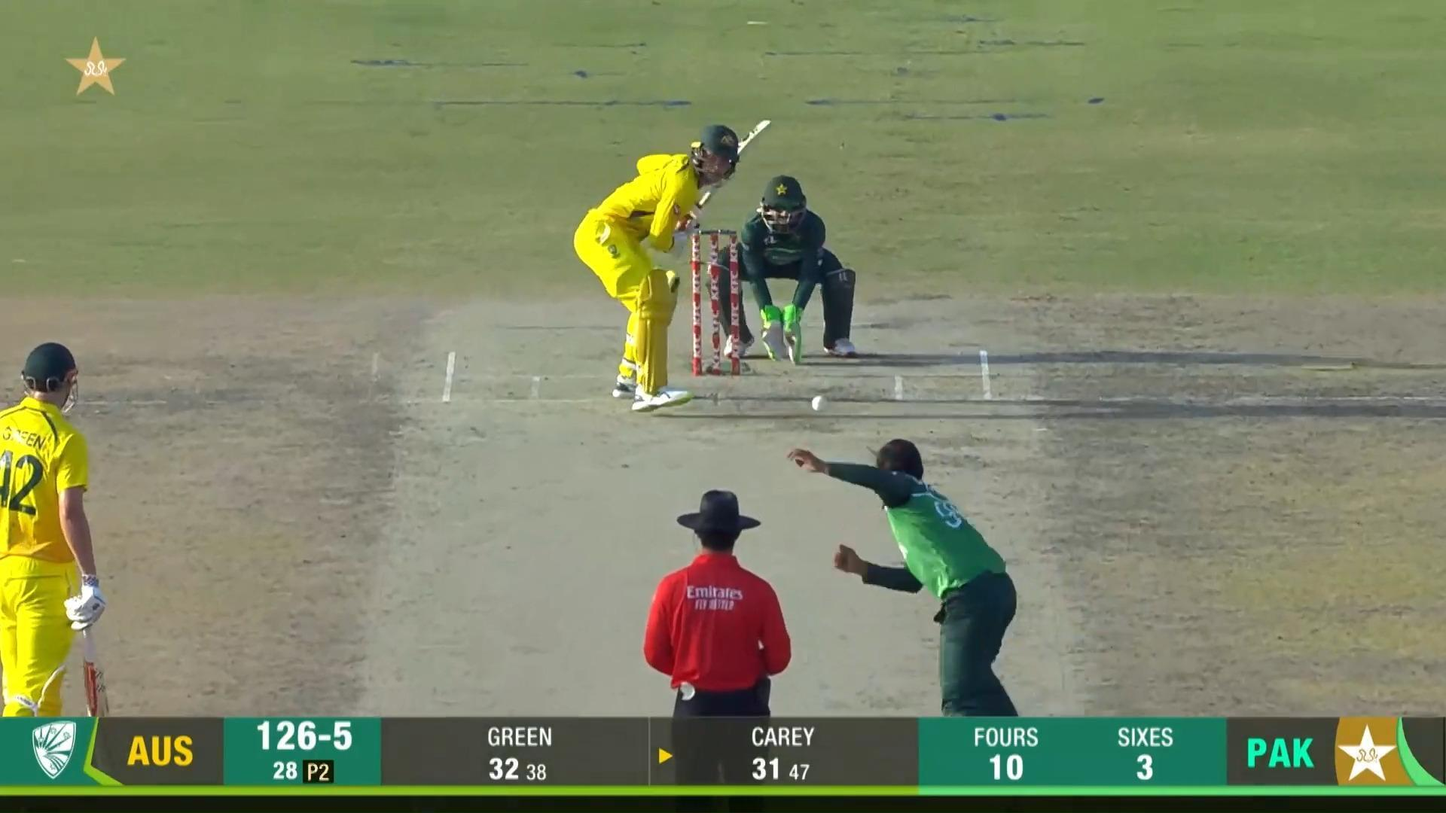BM 1: (573, 116, 773, 416)
BO: (787, 437, 1019, 719)
